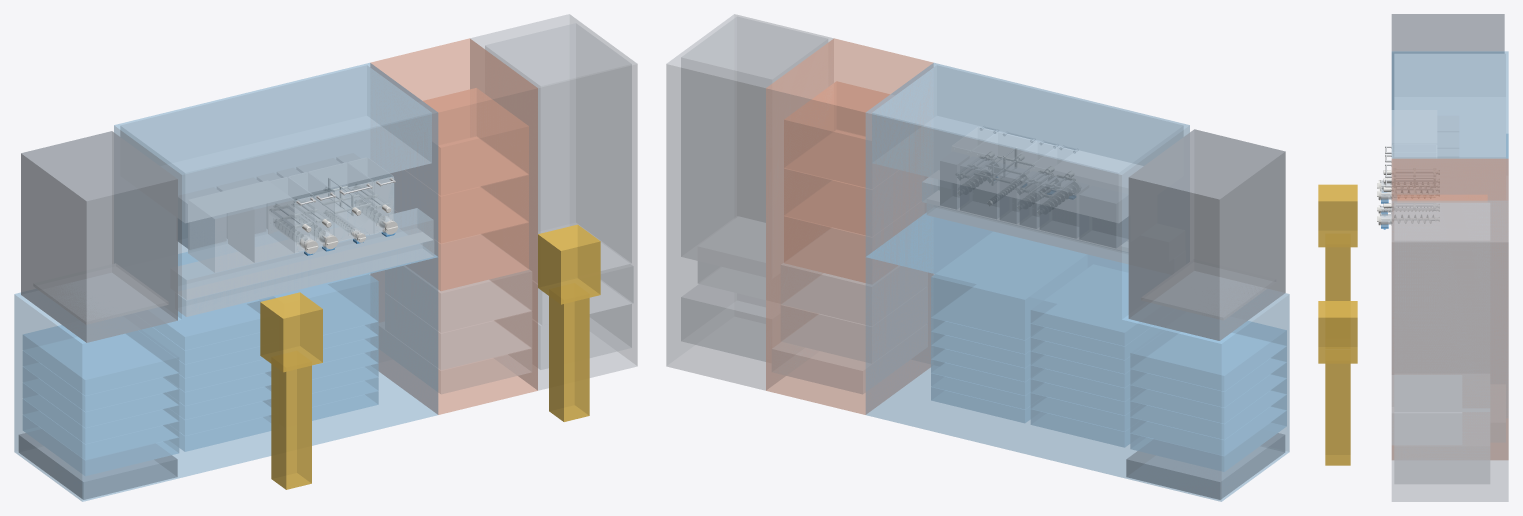
Rendered from hat_v3.glb.
The picture shows the model from 3 angles, left to right: view 1: azimuth 30°, elevation 25°; view 2: azimuth 150°, elevation 25°; view 3: azimuth 270°, elevation 25°; orthographic projection. The views are drawn at different scales.
Visible parts, largest first — view 1: B_KABIN, TOPPING_KABIN, D_KABIN, E_KABIN, TOPPING_SOG, PRESS, E_SARJOR, FIRIN_3, CEK_K1_hamur_6, TOPPING_BAS, B_SOGUTMA, ROBOT_2 (+41 smaller); view 2: B_KABIN, TOPPING_KABIN, D_KABIN, E_KABIN, TOPPING_SOG, PRESS, E_SARJOR, FIRIN_3, CEK_K1_hamur_6, B_SOGUTMA, E_MEK, PRESS_PLAKA (+34 smaller); view 3: E_KABIN, E_SARJOR, TOPPING_KABIN, TOPPING_SOG, D_KABIN, PRESS, E_MEK, ROBOT_2, ROBOT_1_KOL, ROBOT_2_KOL, E_AGZ, ROBOT_1 (+7 smaller).
Part boxes in pixels (box(x1,y1,x2,y2)): B_KABIN: box(14, 252, 438, 501); TOPPING_KABIN: box(114, 63, 438, 319); D_KABIN: box(370, 38, 537, 414); E_KABIN: box(470, 14, 637, 390); TOPPING_SOG: box(120, 65, 431, 222); PRESS: box(21, 131, 177, 342); E_SARJOR: box(485, 23, 631, 270); FIRIN_3: box(423, 88, 528, 195); CEK_K1_hamur_6: box(23, 325, 178, 395); TOPPING_BAS: box(178, 208, 433, 299); B_SOGUTMA: box(18, 429, 177, 499); ROBOT_2: box(549, 283, 589, 421); B_KABIN: box(865, 213, 1289, 501); TOPPING_KABIN: box(865, 63, 1189, 319); D_KABIN: box(766, 38, 933, 414); E_KABIN: box(666, 14, 833, 390); TOPPING_SOG: box(872, 65, 1183, 222); PRESS: box(1128, 129, 1285, 340); E_SARJOR: box(681, 16, 827, 277); FIRIN_3: box(784, 81, 889, 187); CEK_K1_hamur_6: box(1130, 321, 1286, 391); B_SOGUTMA: box(1126, 429, 1285, 499); E_MEK: box(681, 284, 765, 361); PRESS_PLAKA: box(1141, 259, 1275, 320); E_KABIN: box(1391, 200, 1508, 501); E_SARJOR: box(1394, 203, 1489, 411); TOPPING_KABIN: box(1391, 51, 1508, 200); TOPPING_SOG: box(1394, 54, 1505, 158); D_KABIN: box(1391, 158, 1508, 459); PRESS: box(1391, 14, 1504, 109); E_MEK: box(1394, 412, 1489, 483); ROBOT_2: box(1325, 363, 1350, 465); ROBOT_1_KOL: box(1318, 184, 1357, 247); ROBOT_2_KOL: box(1318, 301, 1357, 363); E_AGZ: box(1392, 375, 1461, 444); ROBOT_1: box(1325, 234, 1350, 300).
Size of the model in its own units: 3.9 by 2.03 by 1.35.
